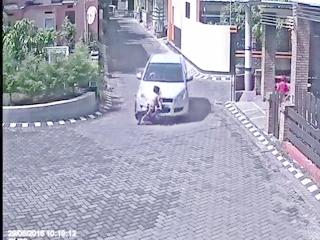Car: (136, 50, 190, 121)
Major Accident: (133, 49, 194, 128)
Motor: (136, 109, 169, 126)
